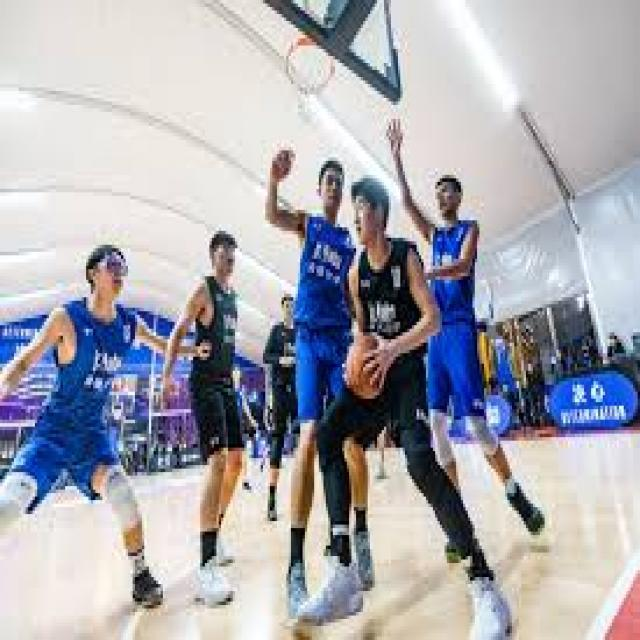rim: (346, 339, 386, 399)
